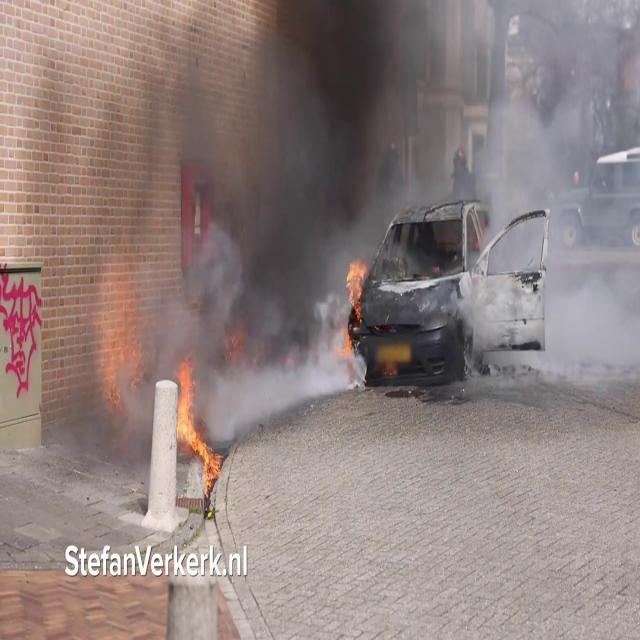Fire: (174, 354, 218, 483), (340, 252, 370, 354)
Smoke: (135, 0, 638, 382), (443, 1, 640, 387)
